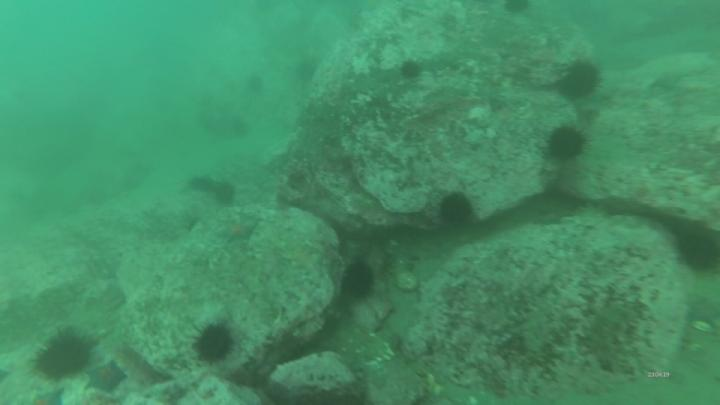echinus: (34, 337, 89, 379), (341, 264, 377, 302), (564, 63, 599, 100), (679, 237, 717, 271), (196, 329, 232, 363), (437, 195, 473, 229), (548, 127, 584, 158), (189, 178, 216, 192), (214, 182, 232, 203), (403, 59, 420, 76)
starfish: (88, 365, 126, 391), (218, 221, 253, 243)
